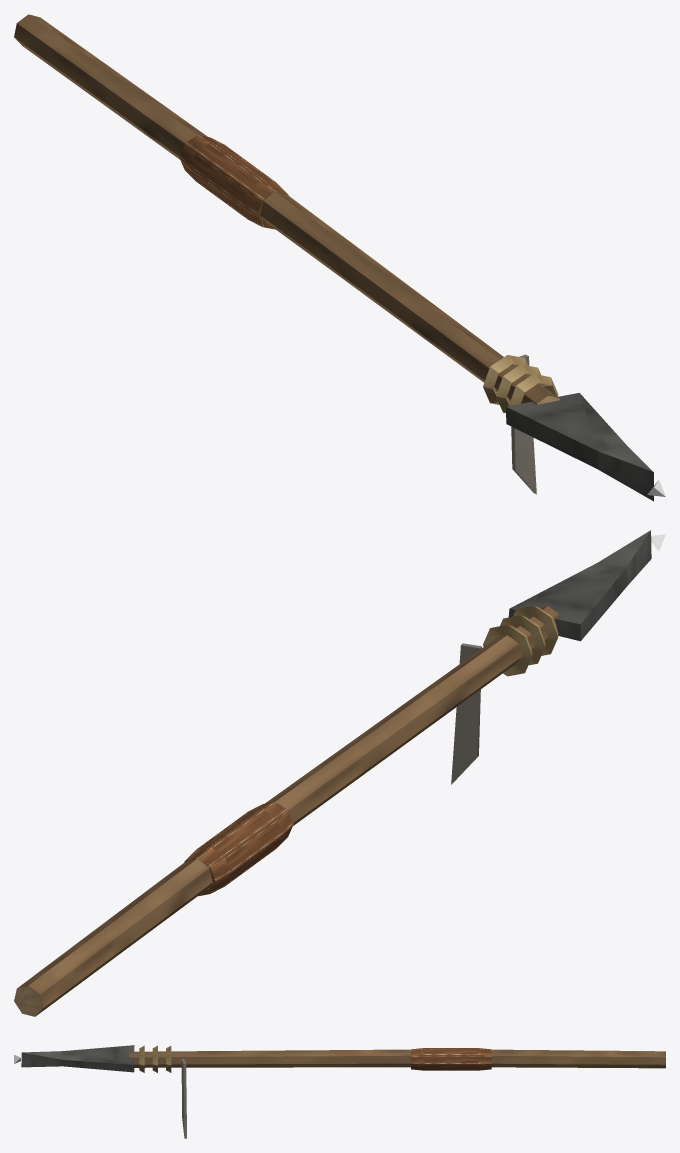
File: SM_Spear.fbx
3 views of the same model, one above another, from view 1: azimuth 30°, elevation 25°; view 2: azimuth 150°, elevation 25°; view 3: azimuth 270°, elevation 25° (orthographic). The views are drawn at different scales.
Visible parts, largest first — view 1: SM_Spear; view 2: SM_Spear; view 3: SM_Spear.
Boxes of the visible parts, left/top/right/bottom form: SM_Spear: left=14, top=14, right=653, bottom=501; SM_Spear: left=14, top=530, right=651, bottom=1016; SM_Spear: left=21, top=1045, right=665, bottom=1138.
Bounding box in the file's own units: 0.5293 × 1.01 × 7.29.
Materials: 1 (1 with a texture image).
